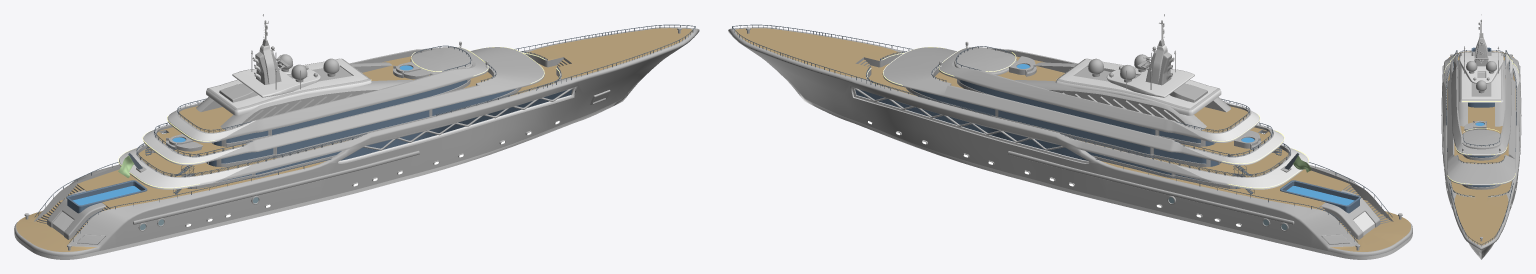
The model's file is Yacht-Neon.glb.
3 renders of one model, left to right at view 1: azimuth 30°, elevation 25°; view 2: azimuth 150°, elevation 25°; view 3: azimuth 270°, elevation 25°, orthographic. The views are drawn at different scales.
Parts seen in each view (by area): view 1: Yacht_130m; view 2: Yacht_130m; view 3: Yacht_130m.
Part boxes in pixels (x1,y1,x2,y2): Yacht_130m: (14, 14, 699, 259); Yacht_130m: (728, 14, 1412, 259); Yacht_130m: (1441, 14, 1521, 259).
Size of the model in its own units: 1362 by 338 by 200.
